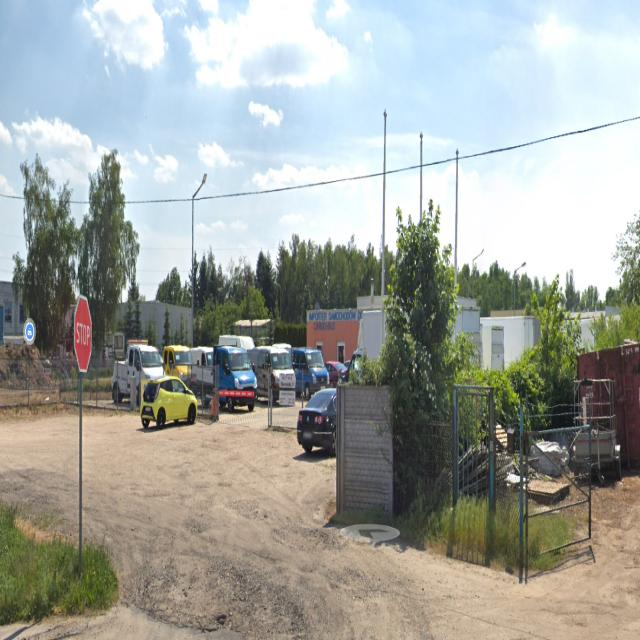Stop: (74, 292, 92, 374)
